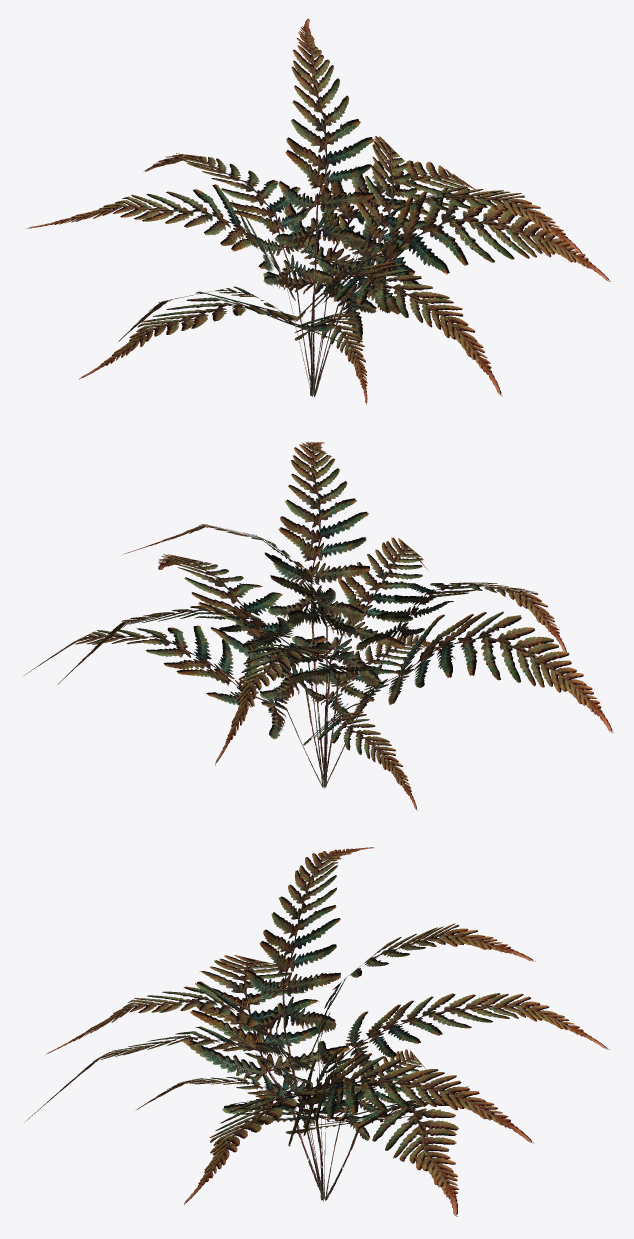
File: Fern.fbx
3 renders of one model, top to bottom at view 1: azimuth 30°, elevation 25°; view 2: azimuth 150°, elevation 25°; view 3: azimuth 270°, elevation 25°, orthographic. The views are drawn at different scales.
Parts seen in each view (by area): view 1: FernMesh; view 2: FernMesh; view 3: FernMesh.
Boxes of the visible parts, bbox=[...] form: FernMesh: bbox=[25, 18, 611, 404]; FernMesh: bbox=[24, 442, 613, 810]; FernMesh: bbox=[25, 847, 609, 1216].
Bounding box in the file's own units: 52.58 × 29.38 × 52.37.
Materials: 1 (1 with a texture image).
